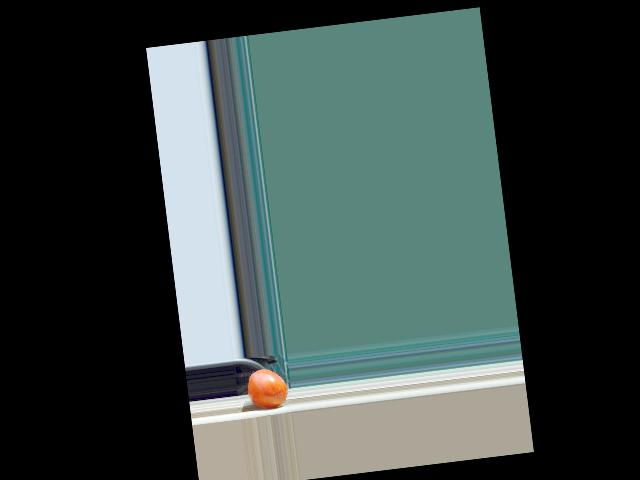tomato: (245, 366, 289, 409)
